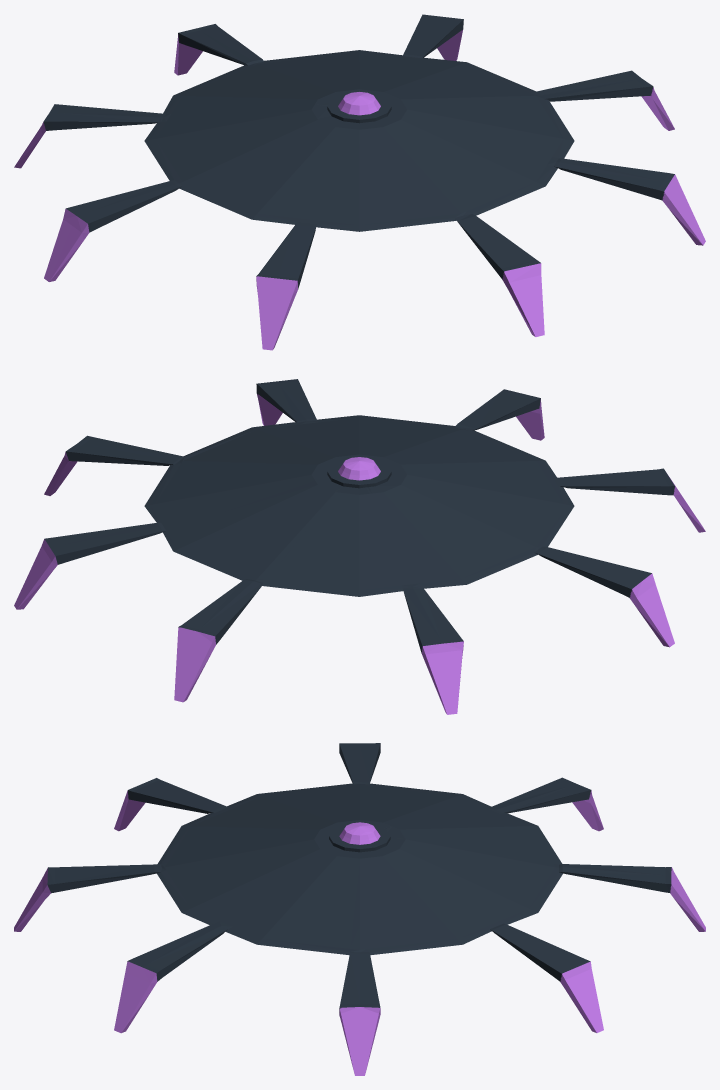
Rendered from Spider_Plant_000008.obj.
3 renders of one model, top to bottom at view 1: azimuth 30°, elevation 25°; view 2: azimuth 150°, elevation 25°; view 3: azimuth 270°, elevation 25°, orthographic. The views are drawn at different scales.
Visible parts, largest first — view 1: Circle_Circle.001; view 2: Circle_Circle.001; view 3: Circle_Circle.001.
Boxes of the visible parts, x1,y1,x2,y2 form: Circle_Circle.001: (14, 14, 705, 350); Circle_Circle.001: (14, 379, 705, 714); Circle_Circle.001: (14, 743, 705, 1075).
Bounding box in the file's own units: 3.36 × 0.5558 × 3.36.
